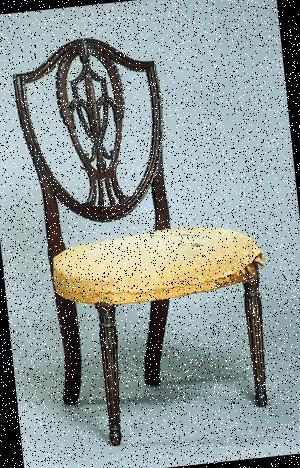Silla: (8, 24, 284, 455)
